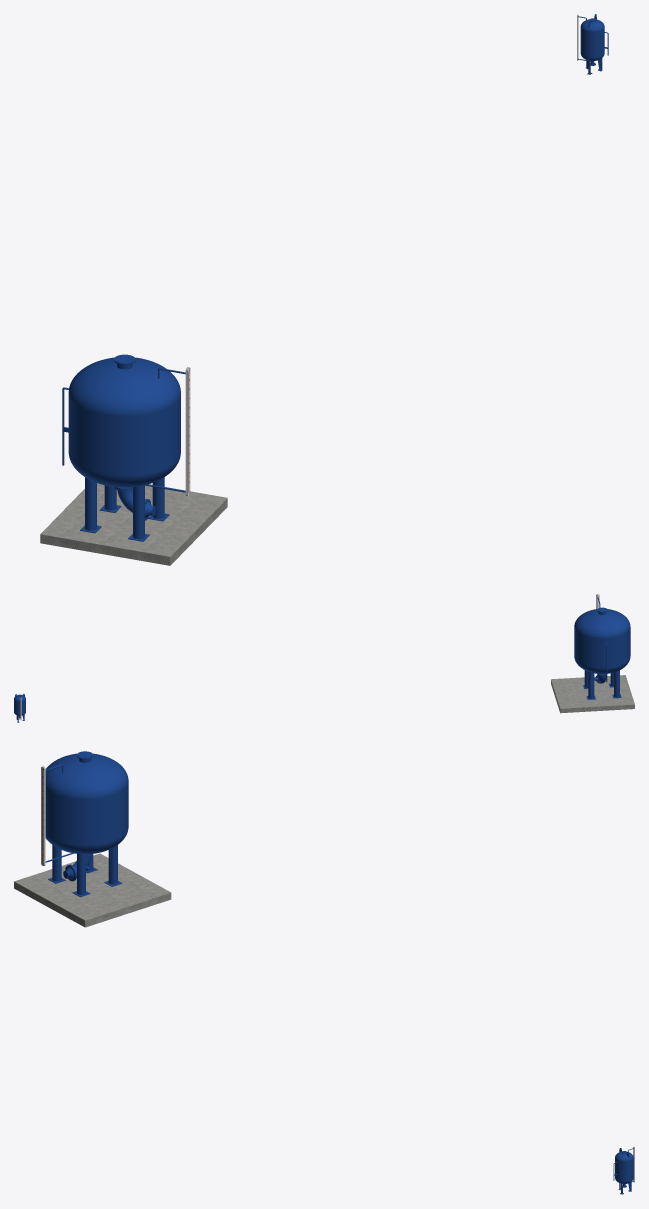
3 renders of one model, top to bottom at view 1: azimuth 30°, elevation 25°; view 2: azimuth 150°, elevation 25°; view 3: azimuth 270°, elevation 25°, orthographic. The views are drawn at different scales.
Visible parts, largest first — view 1: 罐体02, 罐体02-地面板, 罐体01, 罐体02-水尺条; view 2: 罐体02, 罐体02-地面板, 罐体01; view 3: 罐体02, 罐体02-地面板, 罐体01.
Part boxes in pixels (x1,y1,x2,y2): 罐体02: [62, 354, 185, 541]; 罐体02-地面板: [40, 483, 227, 565]; 罐体01: [578, 14, 608, 74]; 罐体02-水尺条: [185, 367, 190, 496]; 罐体02: [574, 597, 630, 699]; 罐体02-地面板: [551, 675, 634, 713]; 罐体01: [14, 693, 25, 722]; 罐体02: [45, 751, 128, 897]; 罐体02-地面板: [14, 853, 171, 927]; 罐体01: [613, 1148, 633, 1194].
Bounding box in the file's own units: 49.41 × 9.18 × 38.1.
8 materials, 7 textured.
